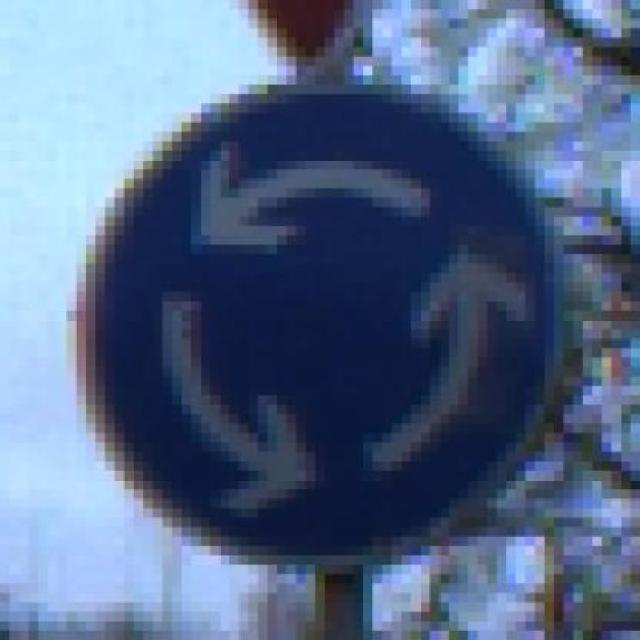Round-About: (76, 66, 582, 583)
